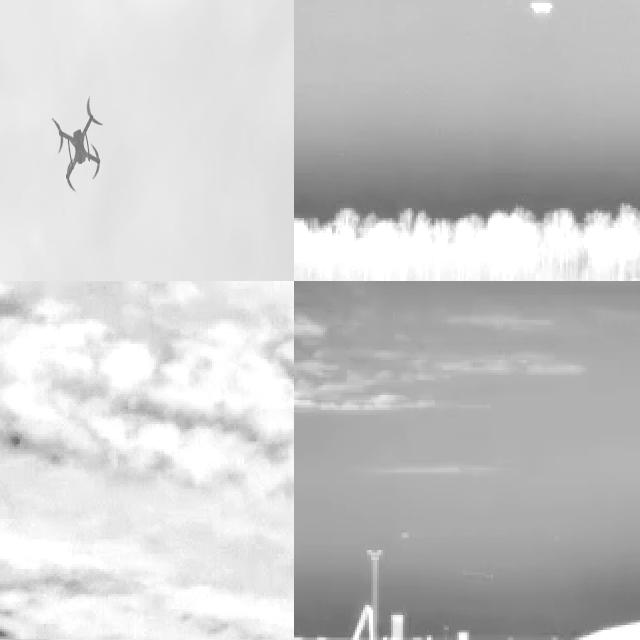0: (399, 522, 423, 550), (0, 311, 14, 336)
1: (522, 0, 566, 25)
drone: (49, 90, 110, 202)
